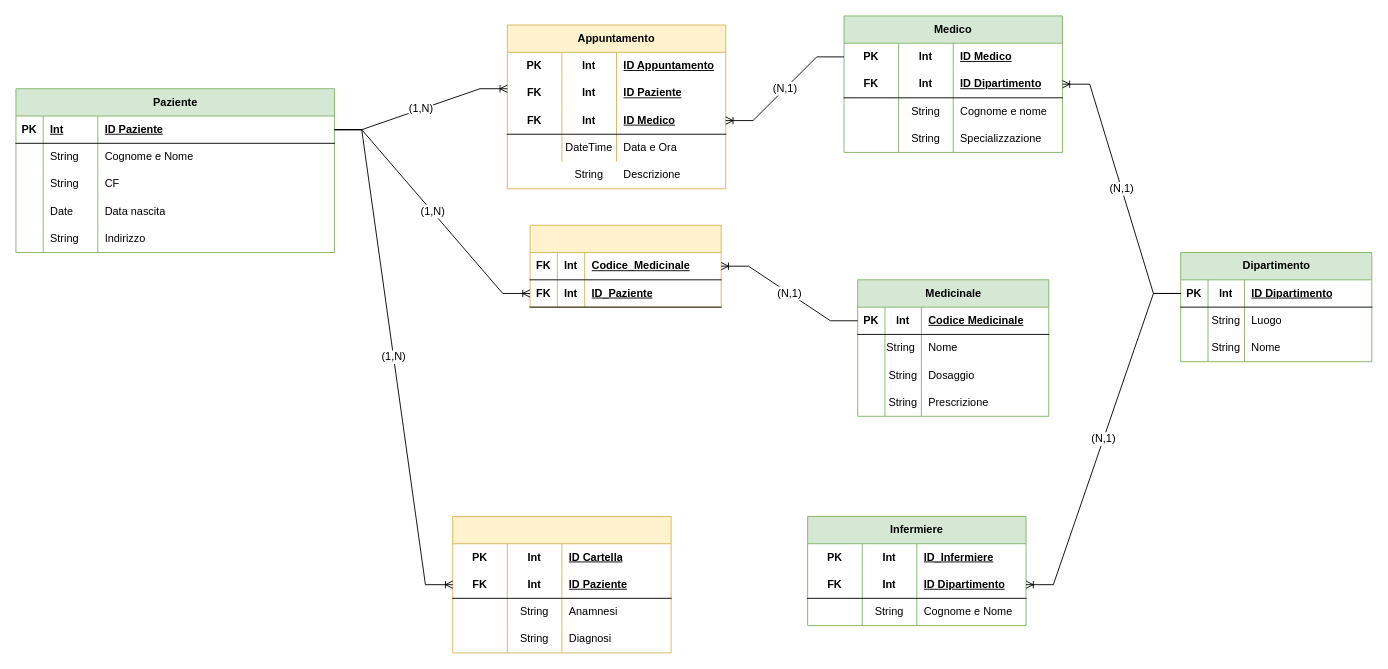
The diagram is 1388 pixels wide and 669 high, and some of its shapes have lost their labels. The box of each missing label's shape, as (x1, y1, x2, y2) in pixels:
Cartella Clinica: (452, 516, 671, 653)
Prescrizioni: (529, 224, 721, 307)
